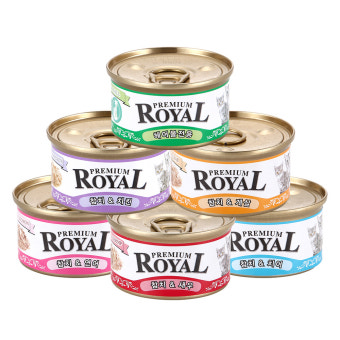paper: (106, 45, 239, 151), (170, 111, 295, 216), (50, 110, 173, 214), (112, 206, 233, 301), (229, 176, 331, 277), (15, 172, 108, 277)
